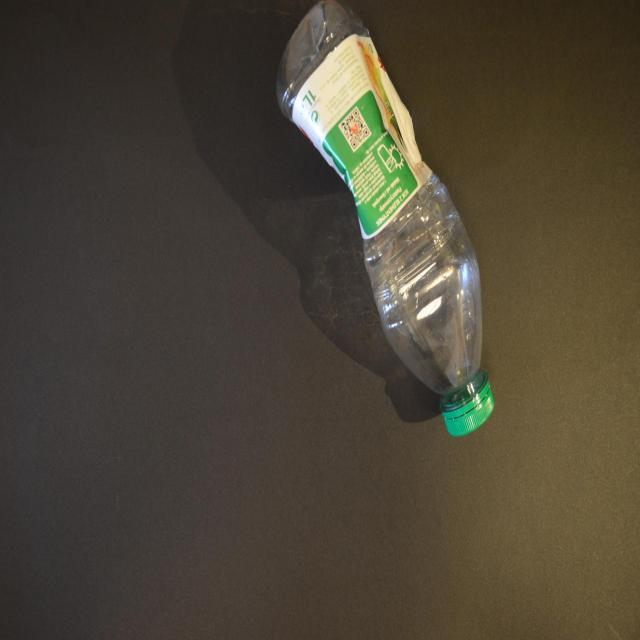plastic_bottle: (276, 0, 495, 438)
